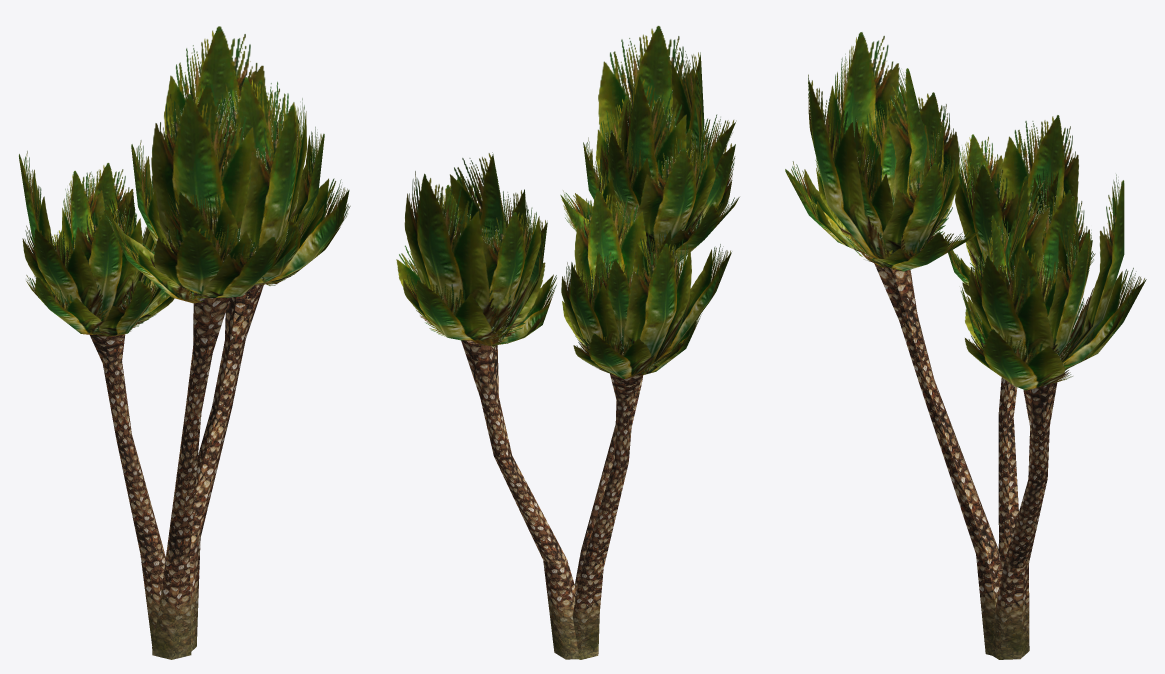
File: ph_tree8.glb
The picture shows the model from 3 angles, left to right: view 1: azimuth 30°, elevation 25°; view 2: azimuth 150°, elevation 25°; view 3: azimuth 270°, elevation 25°; orthographic projection. The views are drawn at different scales.
Parts seen in each view (by area): view 1: ph_tree8-col; view 2: ph_tree8-col; view 3: ph_tree8-col.
Boxes of the visible parts, bbox=[...] form: ph_tree8-col: bbox=[19, 26, 350, 659]; ph_tree8-col: bbox=[396, 26, 739, 659]; ph_tree8-col: bbox=[785, 32, 1146, 659].
Bounding box in the file's own units: 8.66 × 15.16 × 8.32.
Materials: 3 (3 with a texture image).
